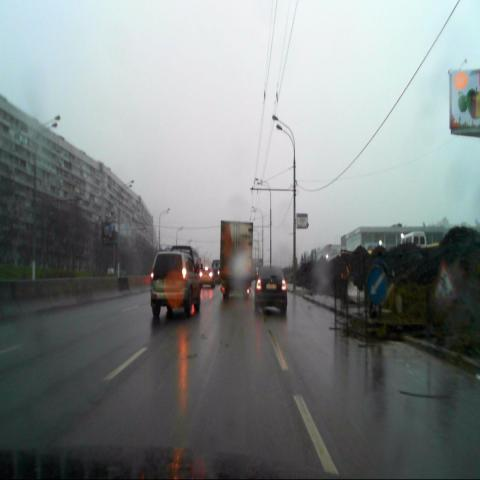1_25: (431, 260, 457, 301)
4_2_2: (367, 264, 388, 302)
